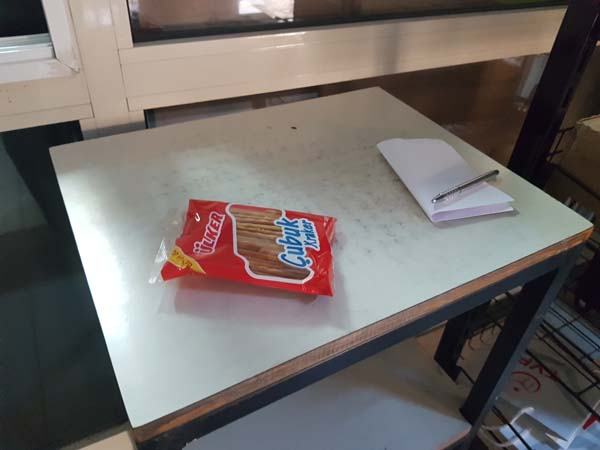eticubuk: (146, 196, 345, 302)
